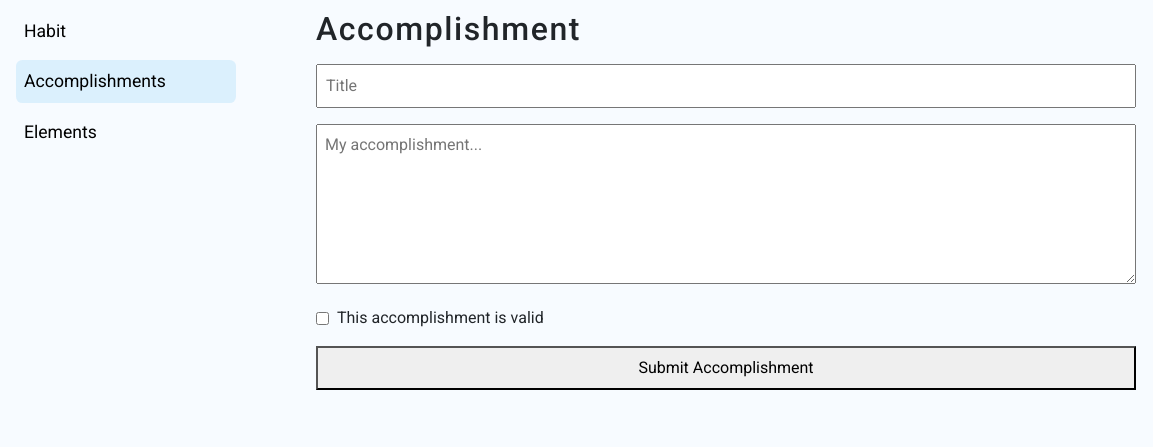
habit dashboard › should showcase error if info is missing
The width and height of the screenshot is (1153, 447).
Type "caca" into the field with test id "accomplishment-title-input" at [726, 86], box [316,64,1136,108]
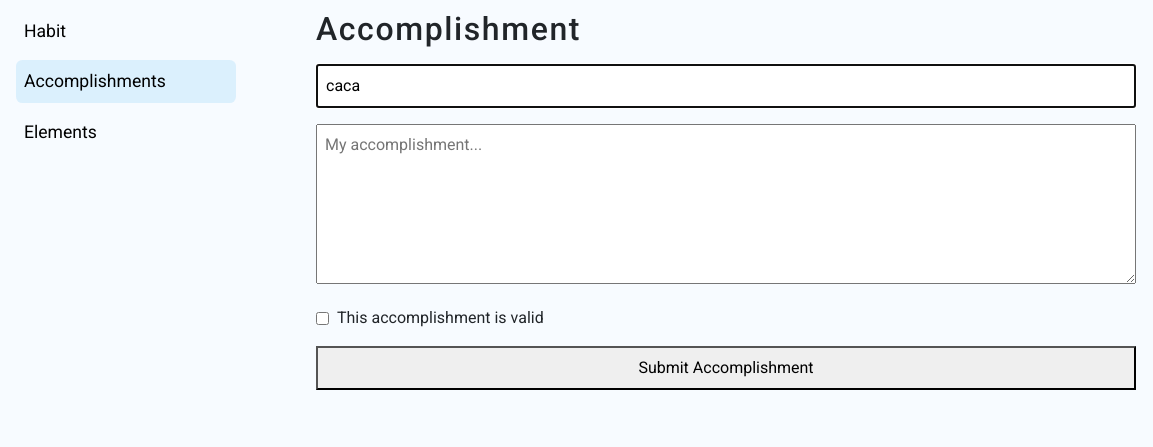
Click the button "Submit Accomplishment" at [726, 368], box [316,346,1136,390]
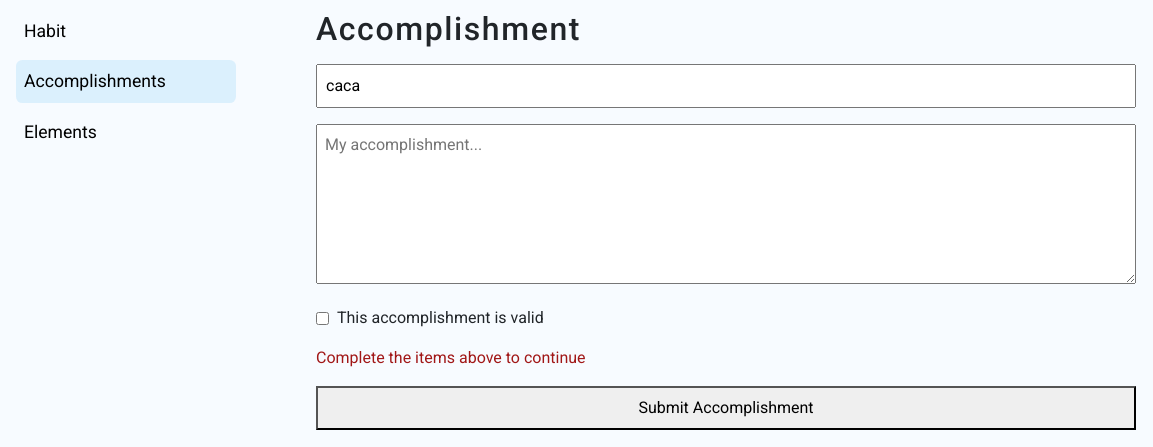
Now the element showing "Complete the items above to continue" is shown, box [316,348,586,367]
